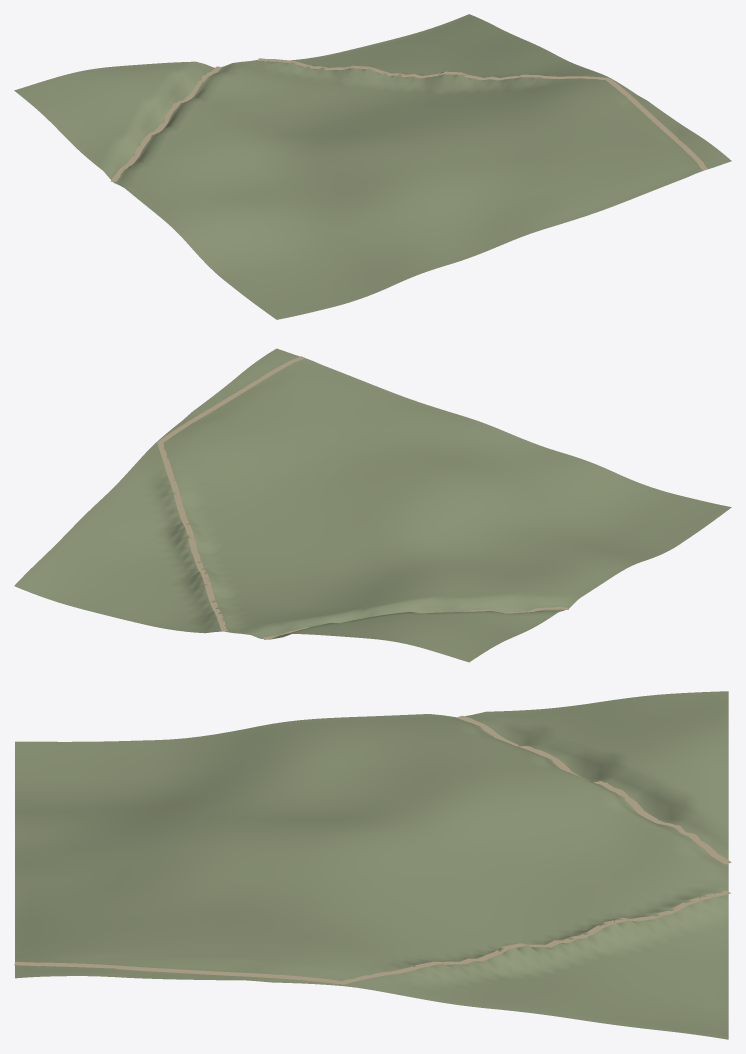
3 views of the same model, one above another, from view 1: azimuth 30°, elevation 25°; view 2: azimuth 150°, elevation 25°; view 3: azimuth 270°, elevation 25° (orthographic). The views are drawn at different scales.
Parts seen in each view (by area): view 1: ground, path; view 2: ground, path; view 3: ground, path.
Part boxes in pixels (x1,y1,x2,y2): ground: [14, 14, 731, 319]; path: [110, 58, 707, 182]; ground: [14, 348, 731, 662]; path: [157, 356, 568, 639]; ground: [15, 691, 728, 1039]; path: [14, 715, 731, 984].
Size of the model in its own units: 251 by 28.23 by 251.
